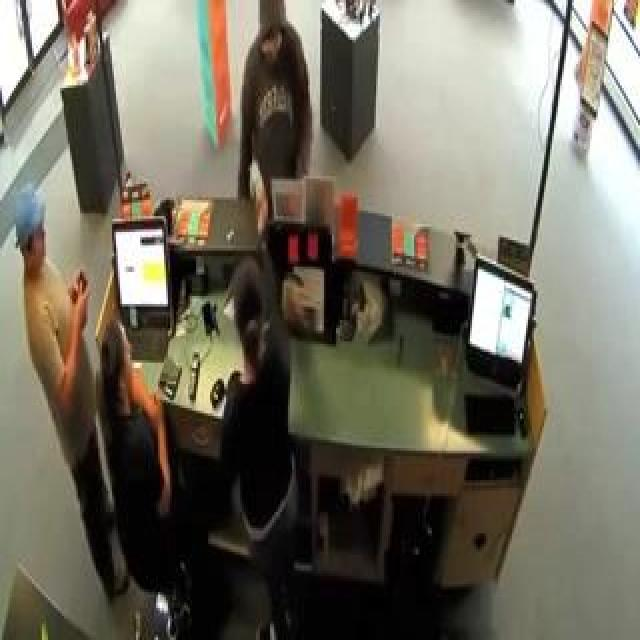high_con: (248, 0, 292, 64)
low_con: (5, 186, 57, 280)
no_con: (92, 312, 138, 412), (229, 264, 273, 362)
